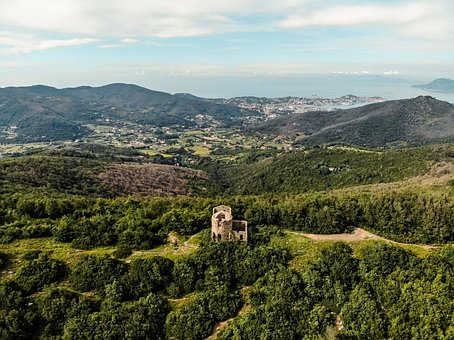forest: (8, 141, 452, 340)
mountain: (3, 81, 454, 147)
sky: (1, 1, 454, 86)
